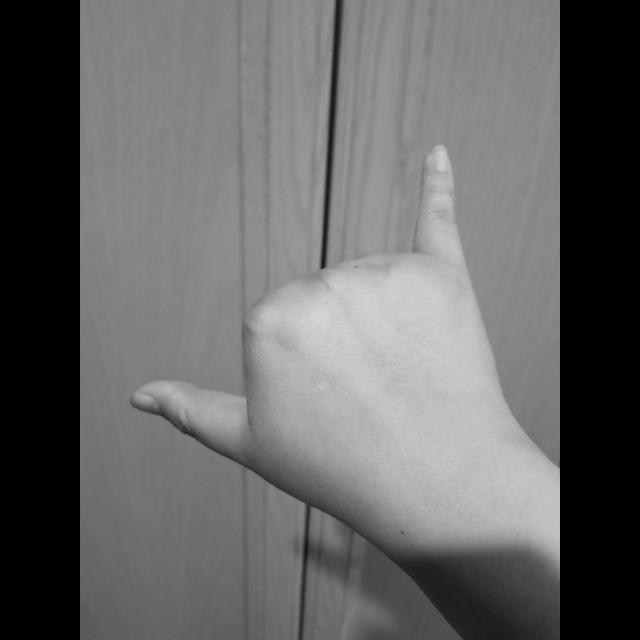Y: (120, 137, 522, 549)
